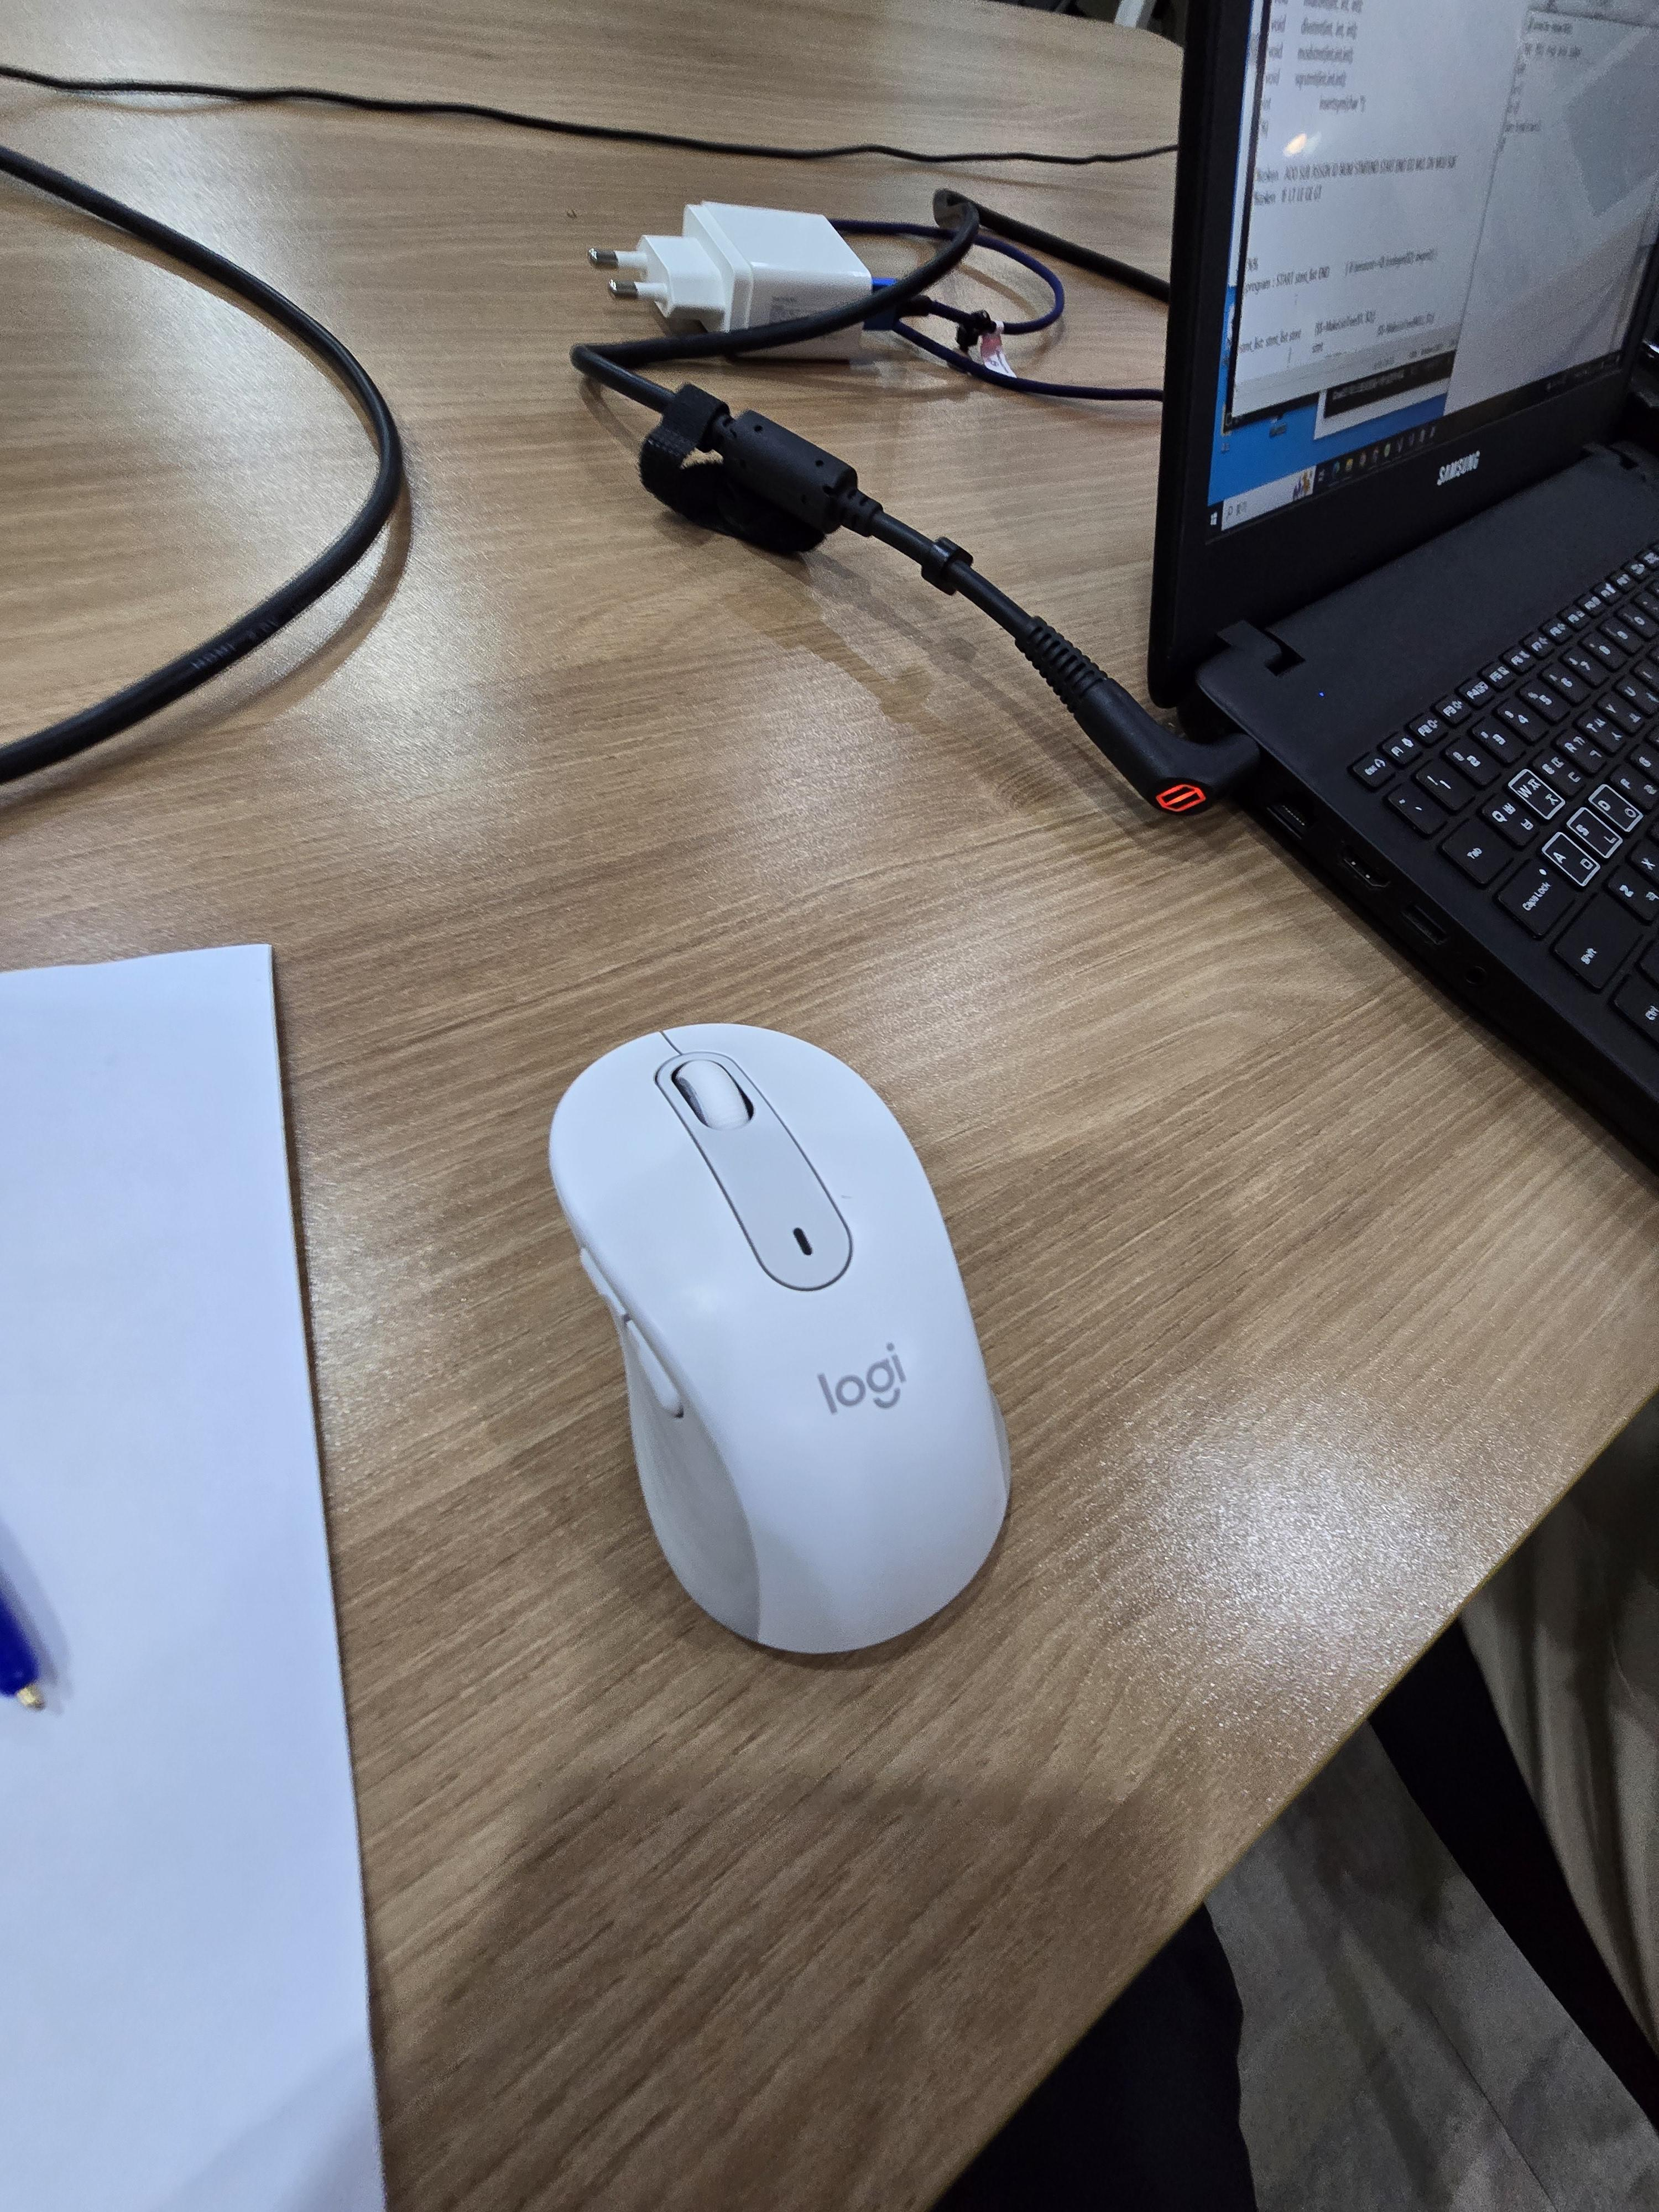mouse: (545, 1019, 1012, 1658)
